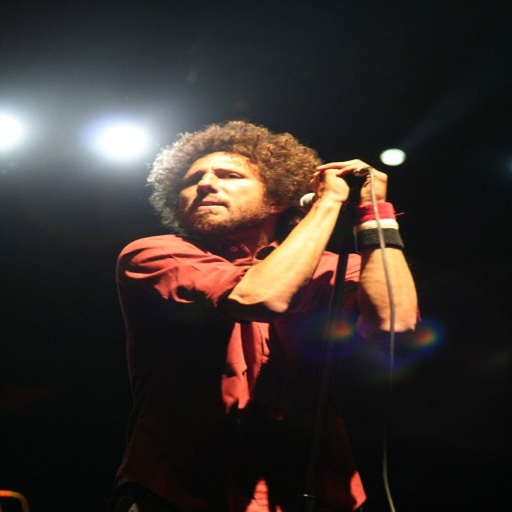hand: (289, 159, 390, 234), (306, 164, 349, 206)
